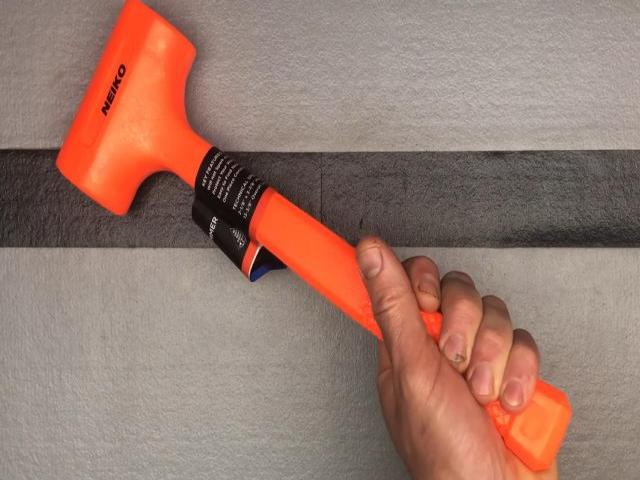hammer: (54, 0, 572, 473)
